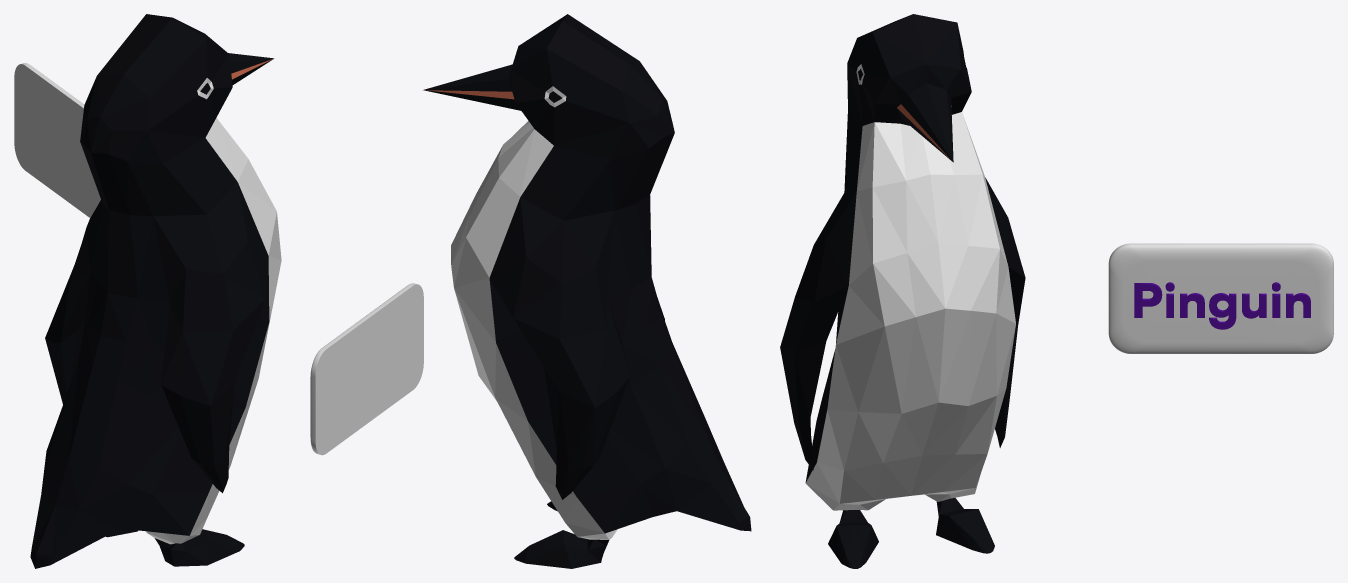
Rendered from Pinguin scaled.fbx.
3 views of the same model, side by side, from view 1: azimuth 30°, elevation 25°; view 2: azimuth 150°, elevation 25°; view 3: azimuth 270°, elevation 25° (orthographic). The views are drawn at different scales.
Visible parts, largest first — view 1: Object_4.008, Cube.009; view 2: Object_4.008, Cube.009; view 3: Object_4.008, Cube.009, Text.009.
Part boxes in pixels (x1,y1,x2,y2): Object_4.008: (30, 14, 281, 568); Cube.009: (14, 63, 100, 217); Object_4.008: (423, 14, 751, 568); Cube.009: (310, 283, 423, 455); Object_4.008: (780, 14, 1025, 568); Cube.009: (1108, 243, 1333, 353); Text.009: (1134, 282, 1310, 329).
Size of the model in its own units: 0.098 by 0.1695 by 0.1595.
